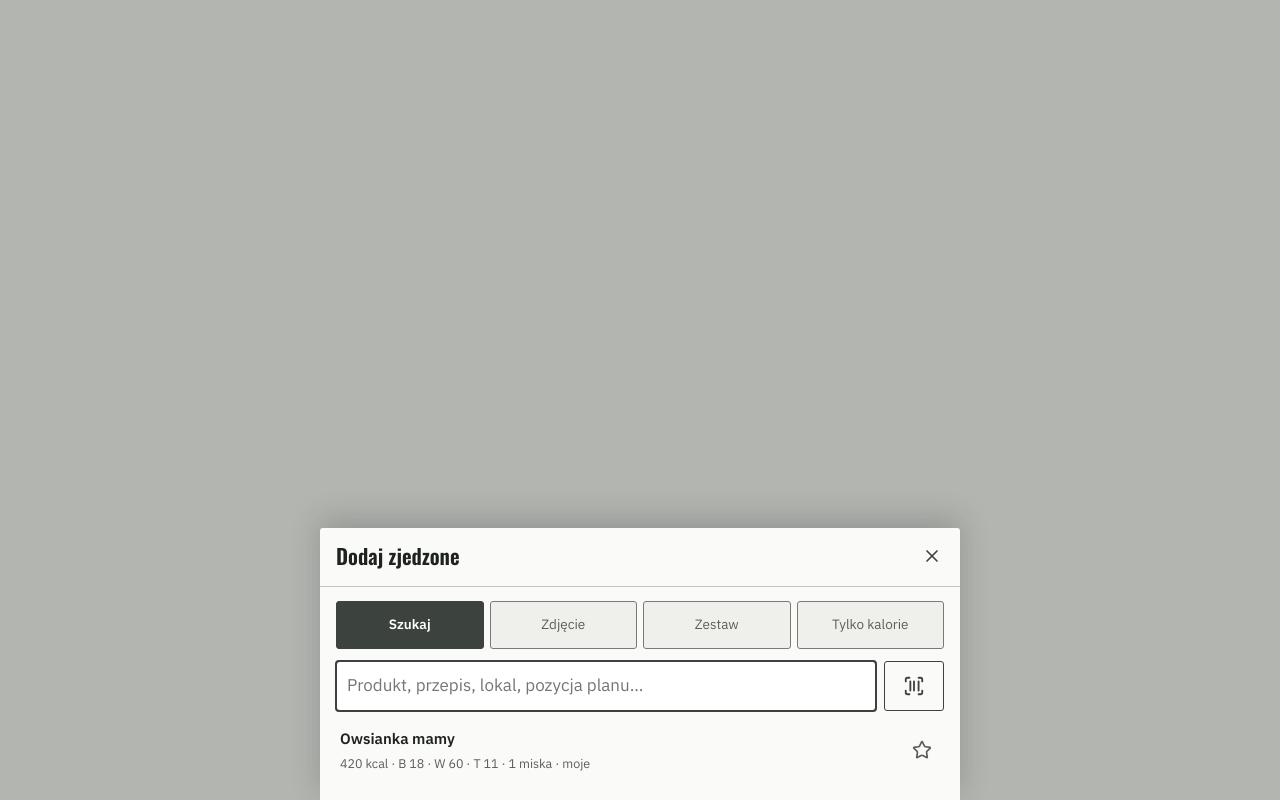
it: „Dodaj zjedzone” wobec celu dnia › inny dzień i zaplanowany większy posiłek mówią o sobie
Type "strips" into the search field named "Szukaj jedzenia". click: (606, 686)
box: x1=336 y1=661 x2=876 y2=711
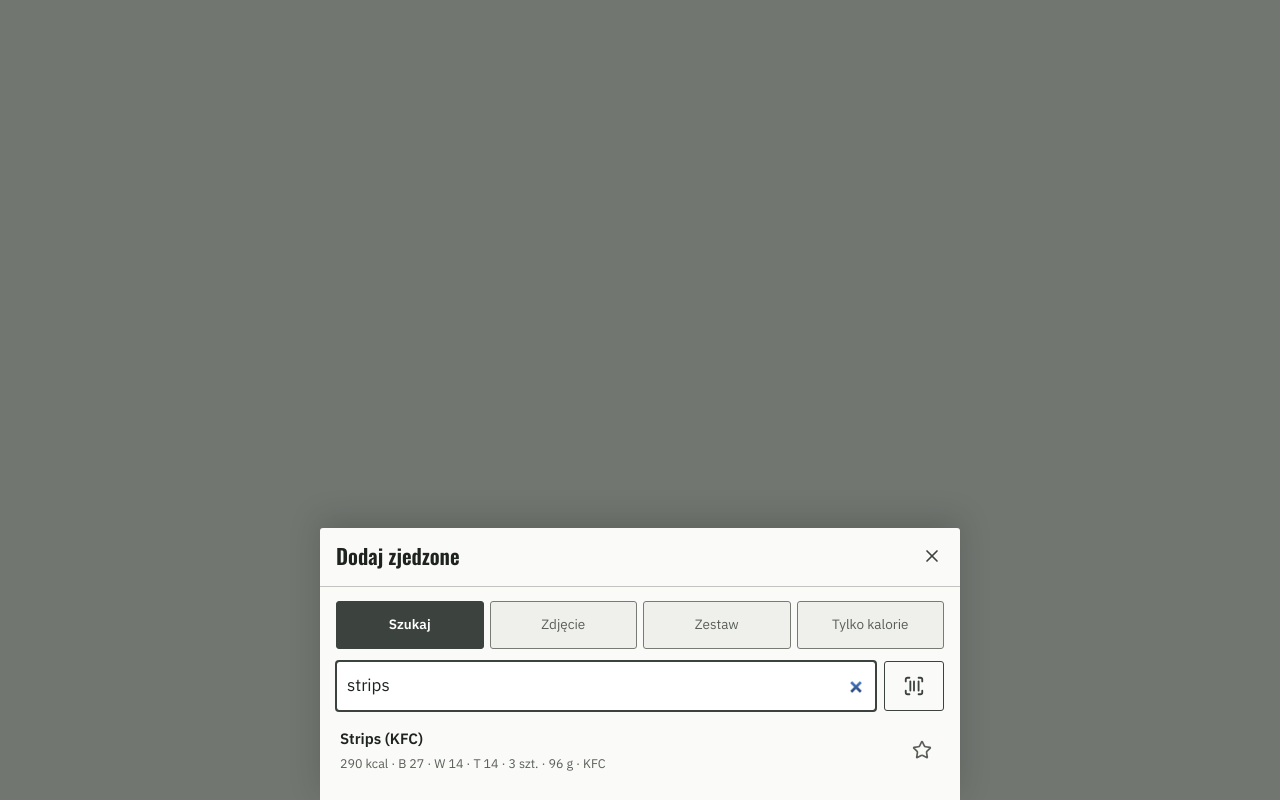
Click the button "Strips (KFC)". click: (381, 738)
box: x1=336 y1=719 x2=898 y2=782
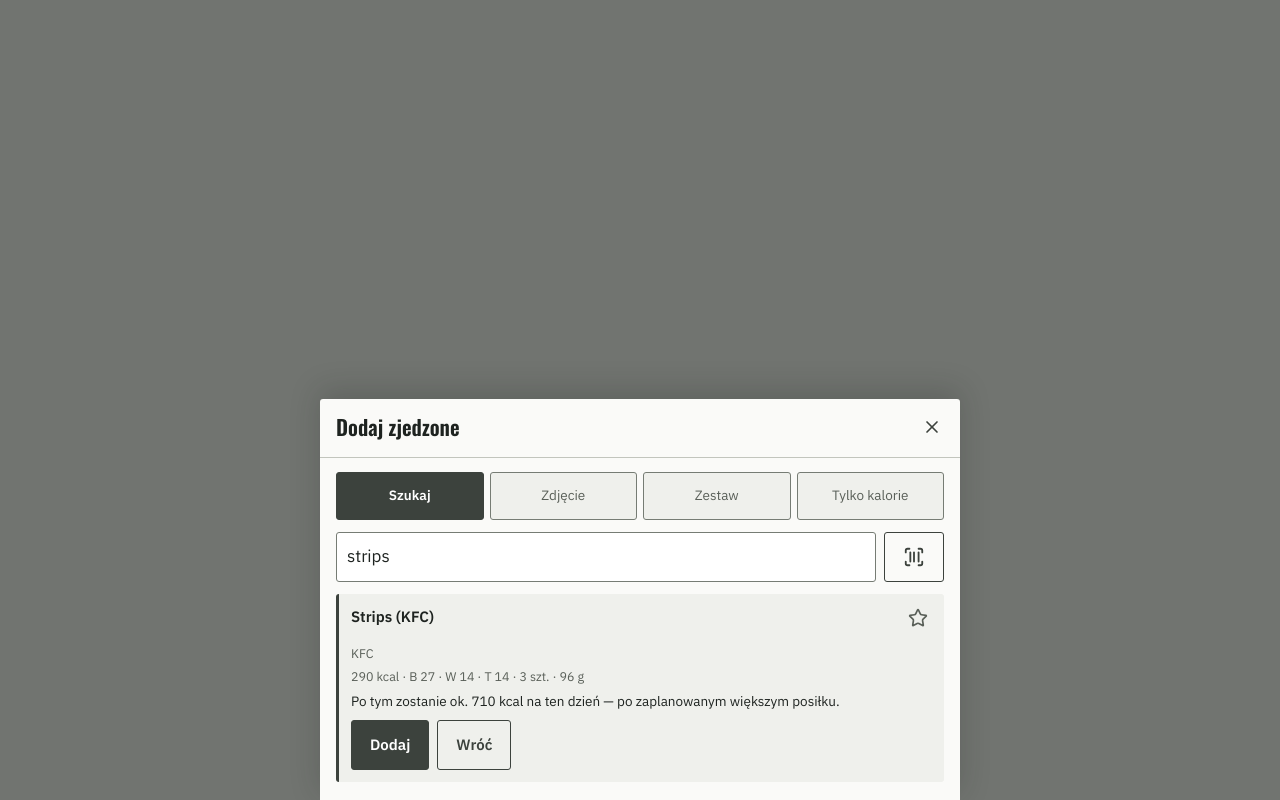
Check: the text "Po tym zostanie ok. 710 kcal na ten dzień — po zaplanowanym większym posiłku." is shown, box x1=351 y1=692 x2=840 y2=710
